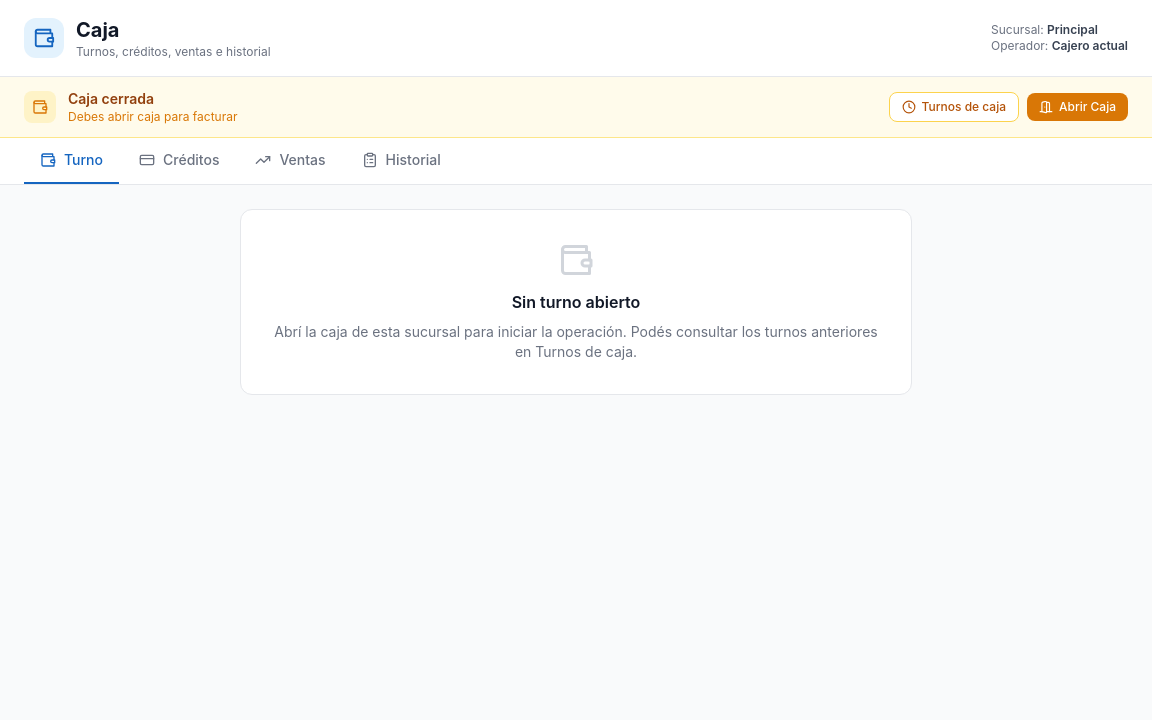
HU1: pantalla propia de Caja › abre caja y actualiza la query compartida con Restaurante/POS
Click the button "Abrir Caja".
click(1078, 107)  # box [1027, 93, 1128, 121]
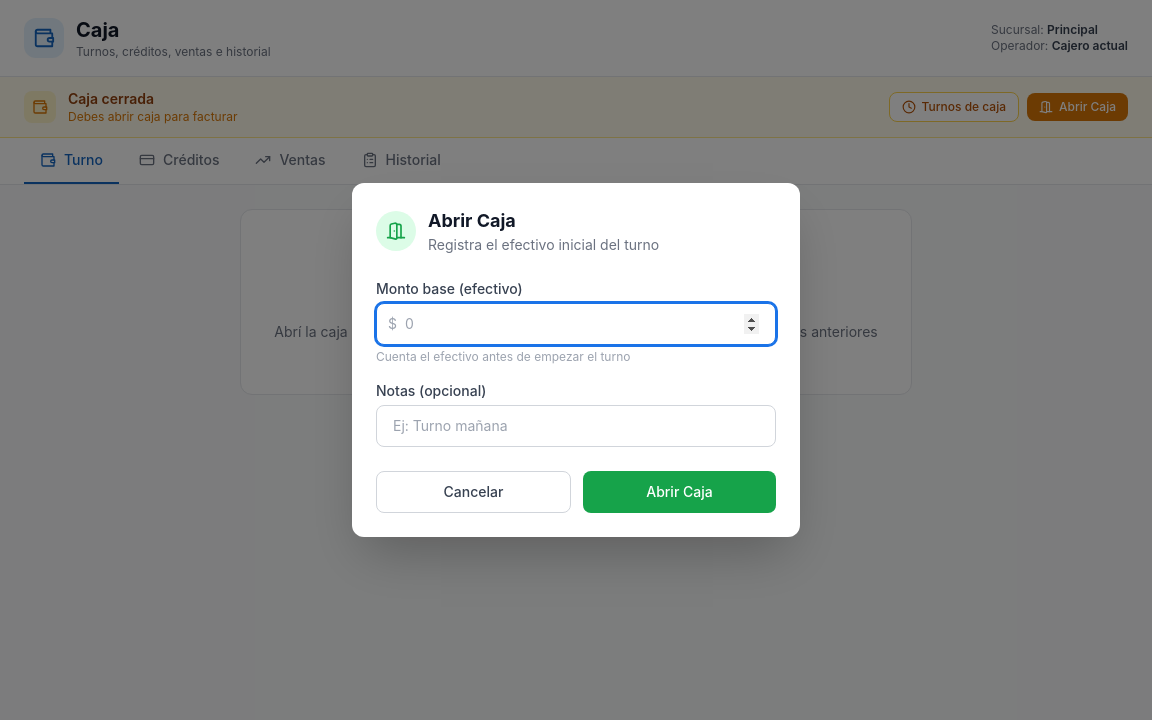
Type "10000" into the number field.
click(576, 324); type("10000")  # box [376, 303, 776, 345]
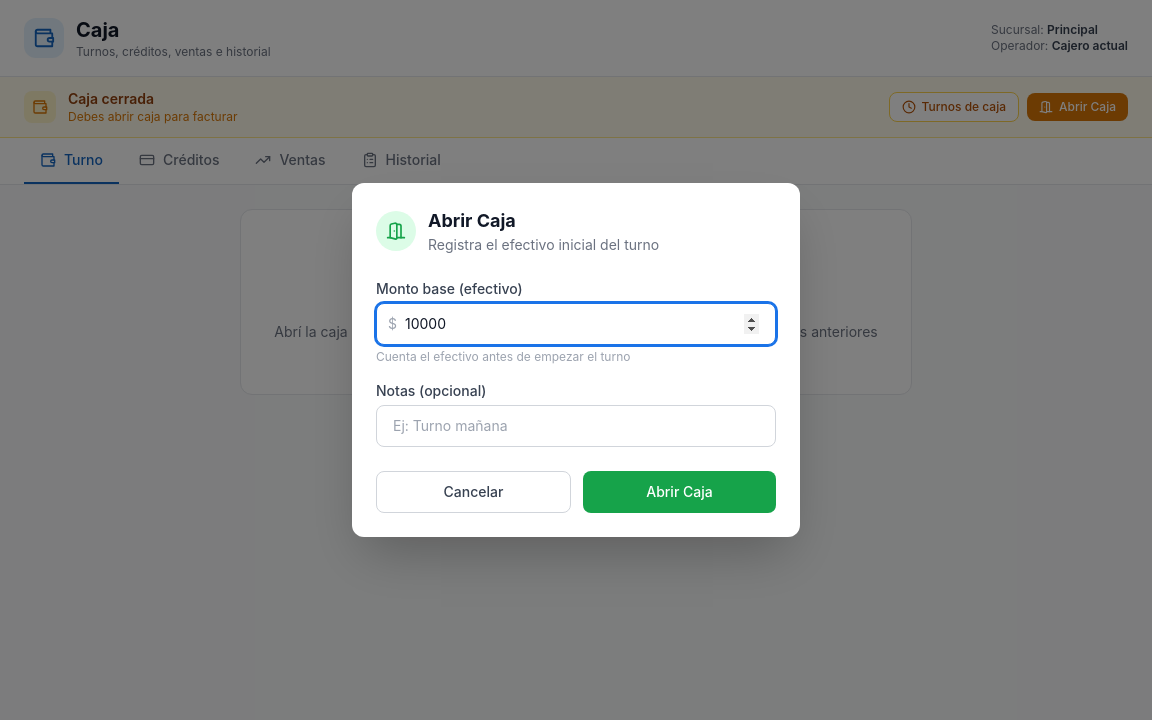
Click the button "Abrir Caja".
click(680, 492)  # box [583, 471, 776, 513]
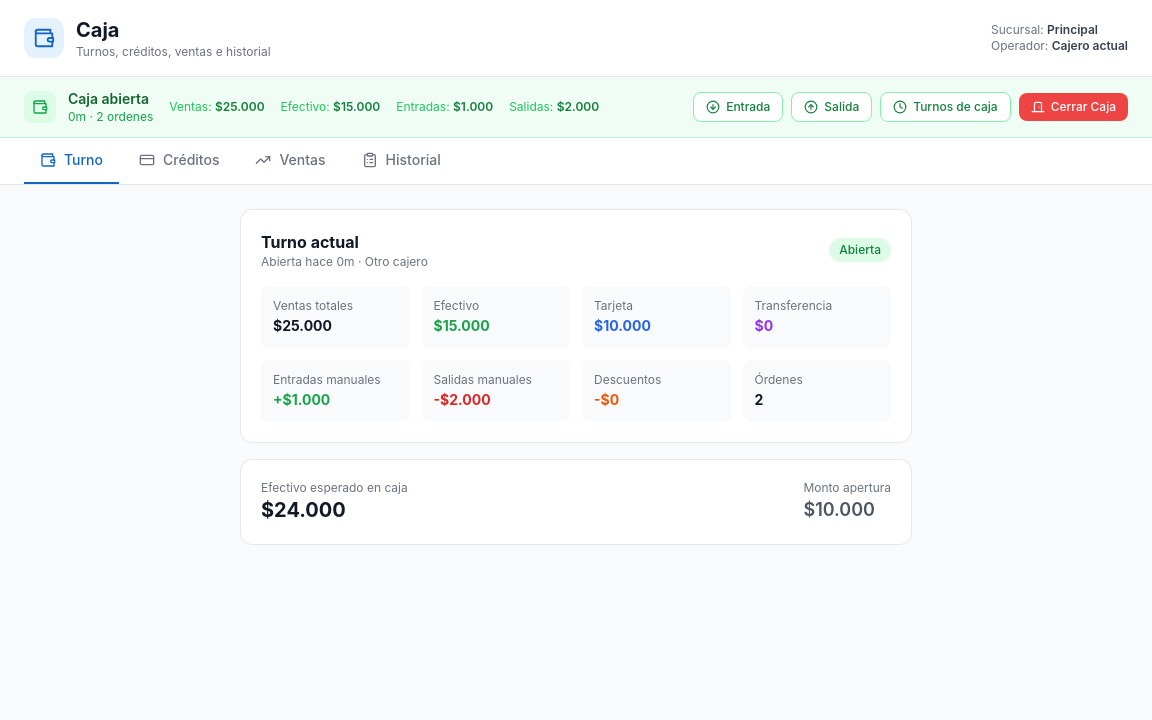
Check: the heading "Turno actual" is shown, box [261, 232, 359, 252]
